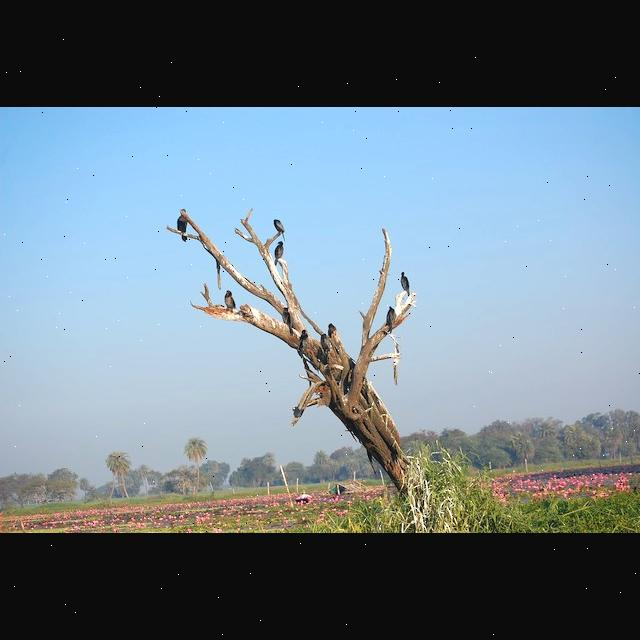cormorant: (171, 206, 191, 246), (267, 240, 297, 266), (270, 215, 296, 241), (218, 290, 244, 314), (396, 270, 416, 294), (279, 304, 293, 336), (386, 304, 398, 332)
